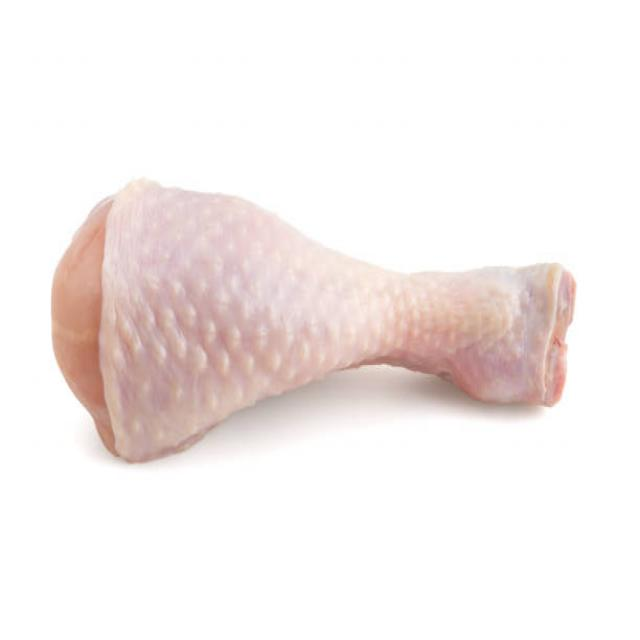chicken wing: (44, 165, 594, 477)
